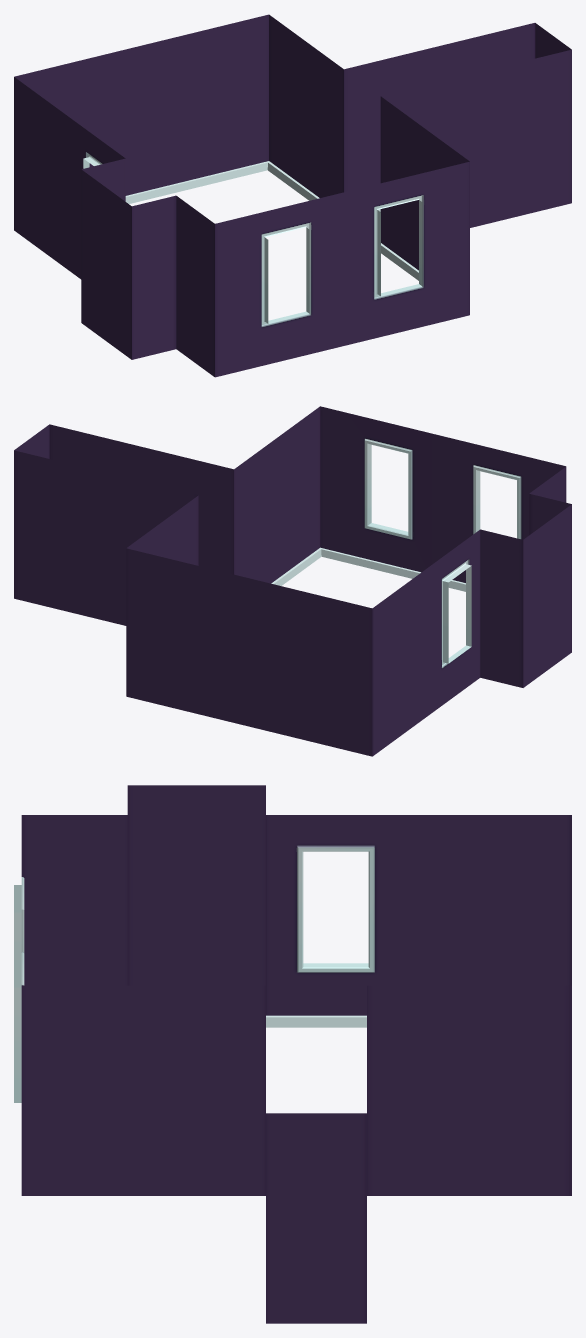
File: Walls 1.fbx
3 renders of one model, top to bottom at view 1: azimuth 30°, elevation 25°; view 2: azimuth 150°, elevation 25°; view 3: azimuth 270°, elevation 25°, orthographic. The views are drawn at different scales.
Parts seen in each view (by area): view 1: Walls; view 2: Walls; view 3: Walls.
Part boxes in pixels (<box>): Walls: <box>14,14,571,377</box>; Walls: <box>14,406,571,756</box>; Walls: <box>14,785,571,1323</box>.
Bounding box in the file's own units: 1662 × 497 × 1196.
